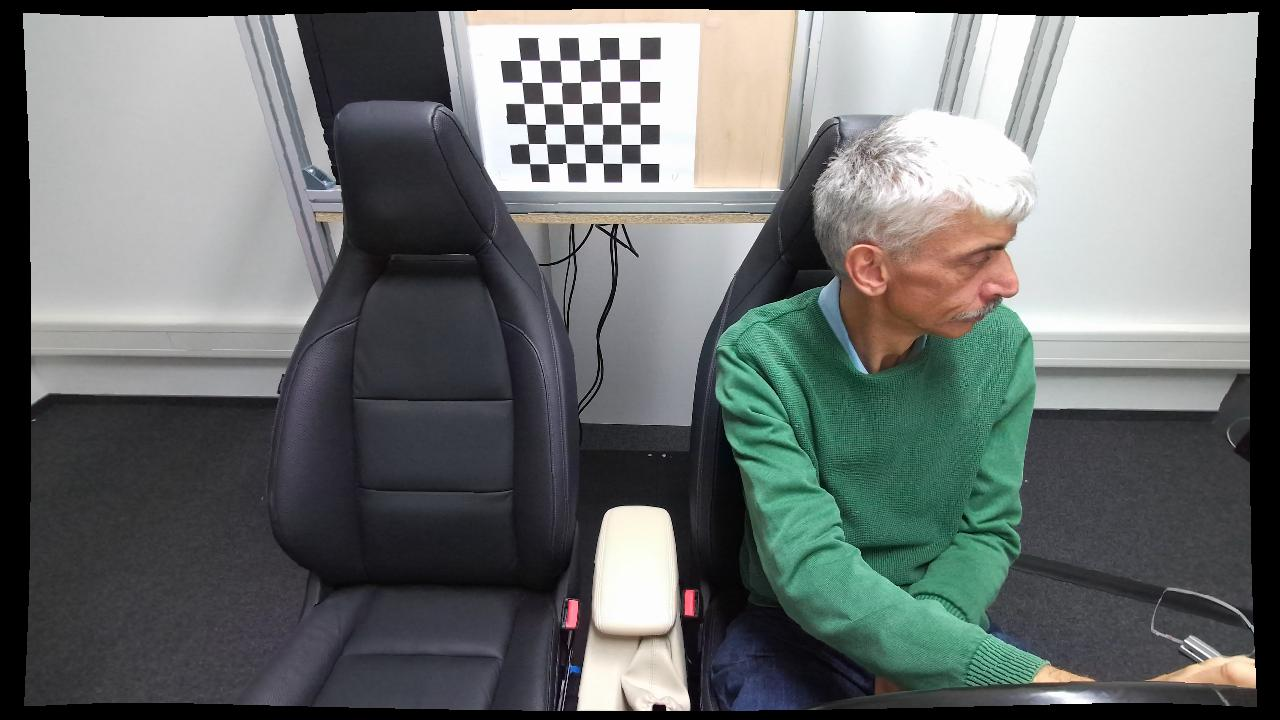Distracted: (710, 107, 1107, 712)
